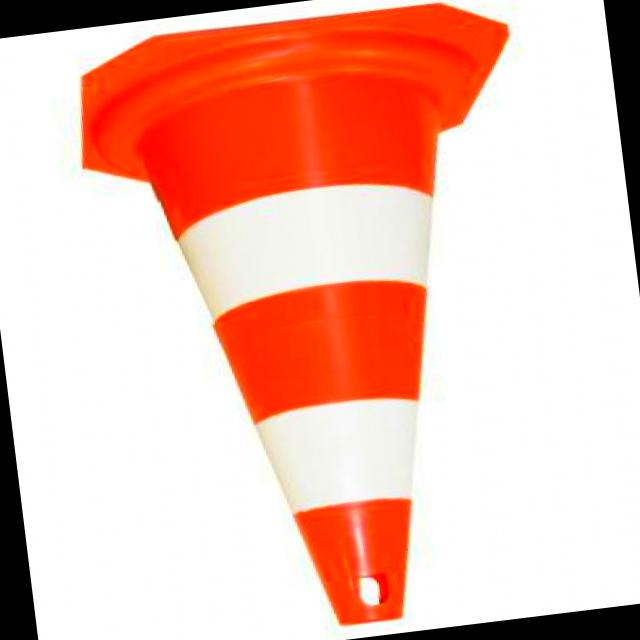cone: (63, 0, 569, 640)
